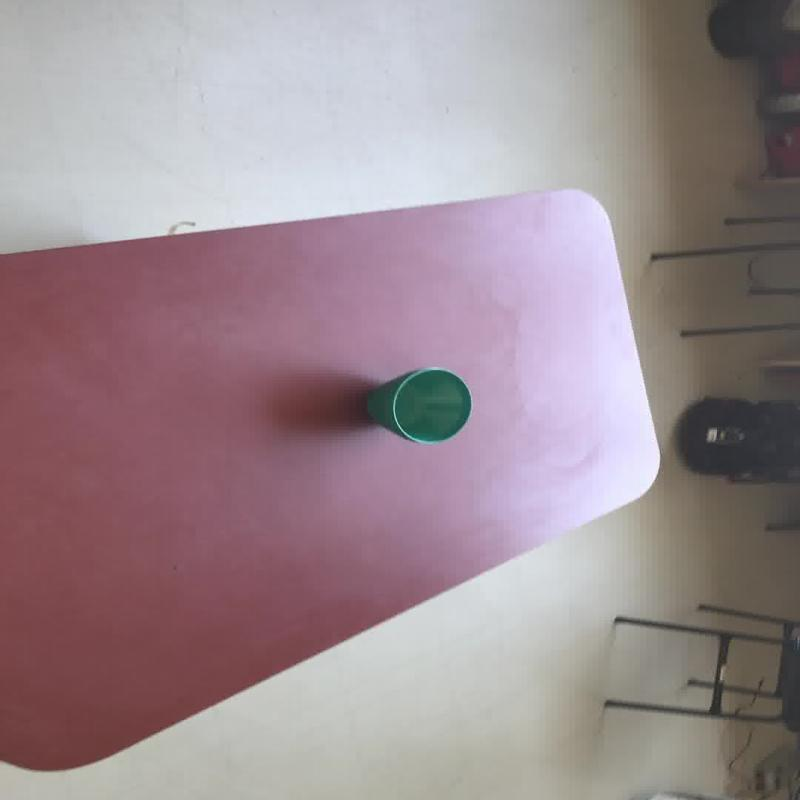bowl: (364, 365, 472, 444)
